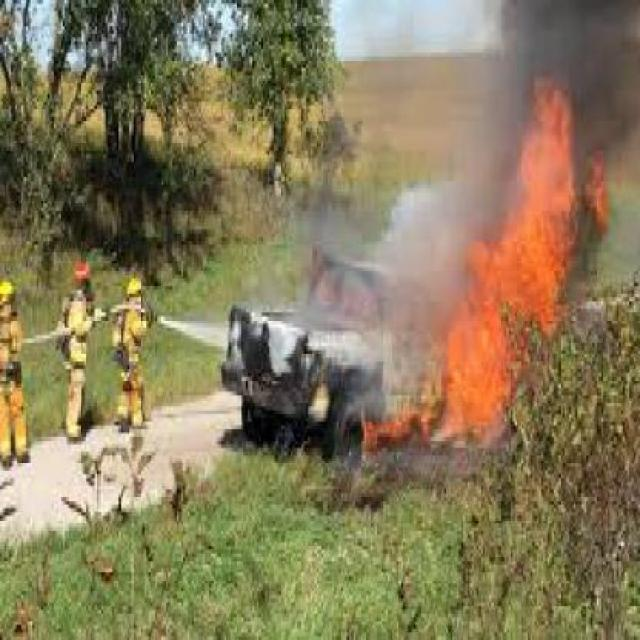fire: (480, 64, 623, 330), (317, 248, 474, 470)
